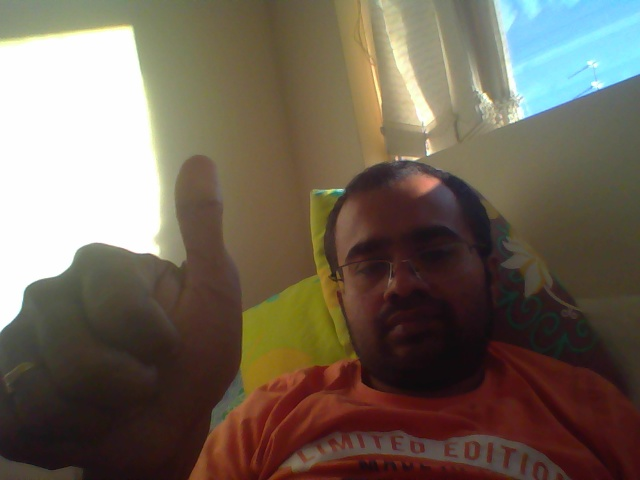ThumbsUp: (1, 153, 252, 472)
